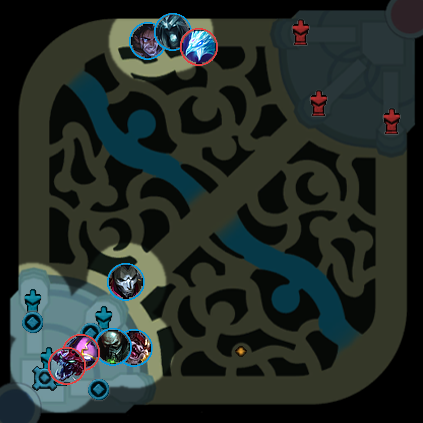Anivia: (180, 28, 218, 66)
Chogath: (48, 347, 86, 385)
Jhin: (107, 263, 145, 301)
Karthus: (154, 13, 192, 51)
Kennen: (62, 334, 100, 372)
Kled: (115, 329, 153, 367)
Sylas: (129, 22, 167, 60)
Urgot: (94, 328, 132, 366)
